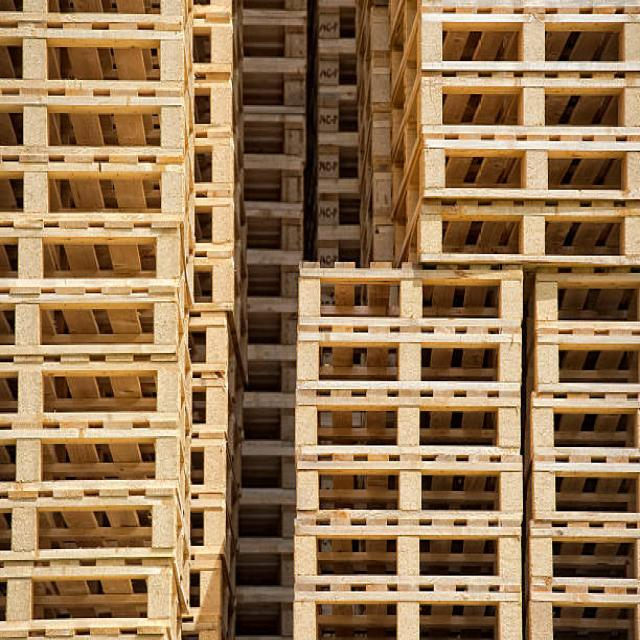Wooden-Pallets: (297, 254, 522, 342), (409, 127, 640, 202), (411, 68, 640, 143), (407, 5, 640, 75), (294, 386, 523, 455), (290, 459, 525, 525), (287, 521, 525, 586), (289, 322, 521, 387), (291, 588, 523, 640)
